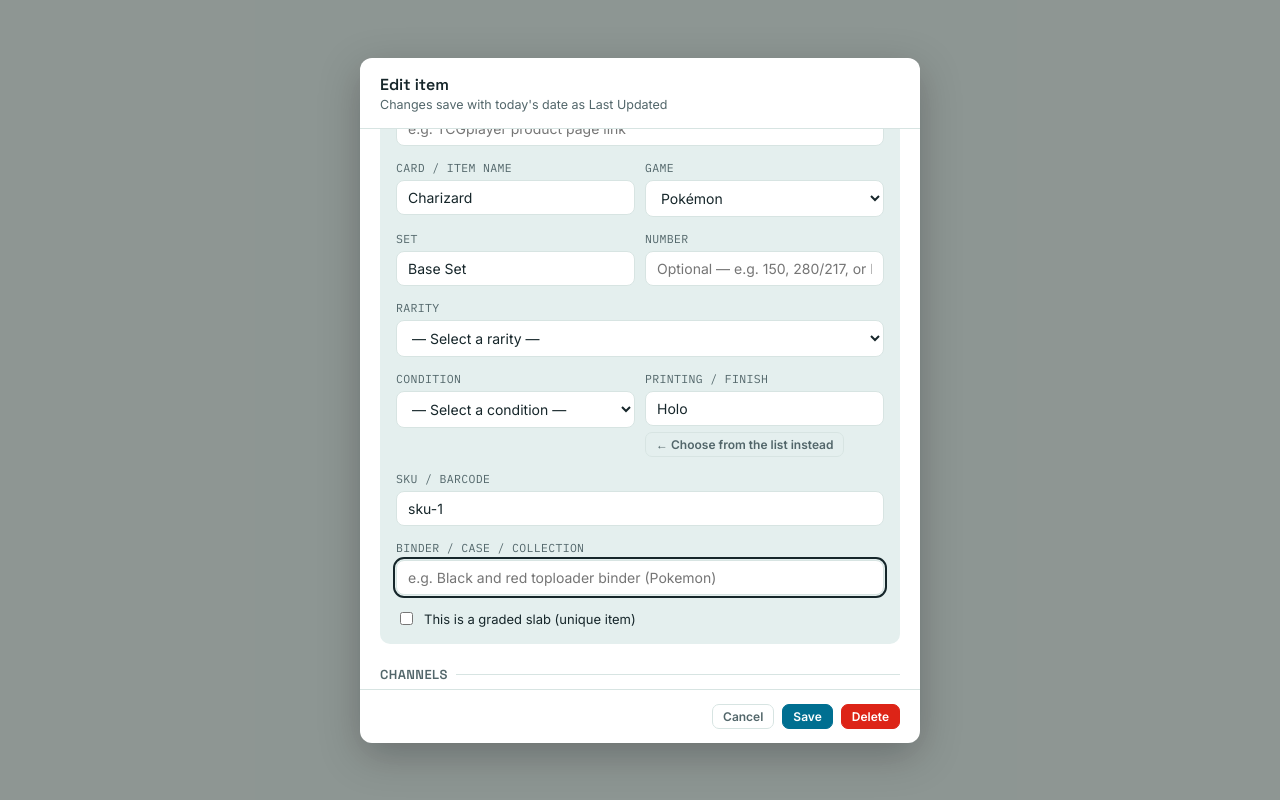
Test: EditModal — Condition picker › picking a condition from the dropdown feeds into the Market Value calculation
The image size is (1280, 800).
(page scrolled)
Select "Lightly Played" in the dropdown named "Condition" at (516, 410), box [396,391,635,428]
(page scrolled)
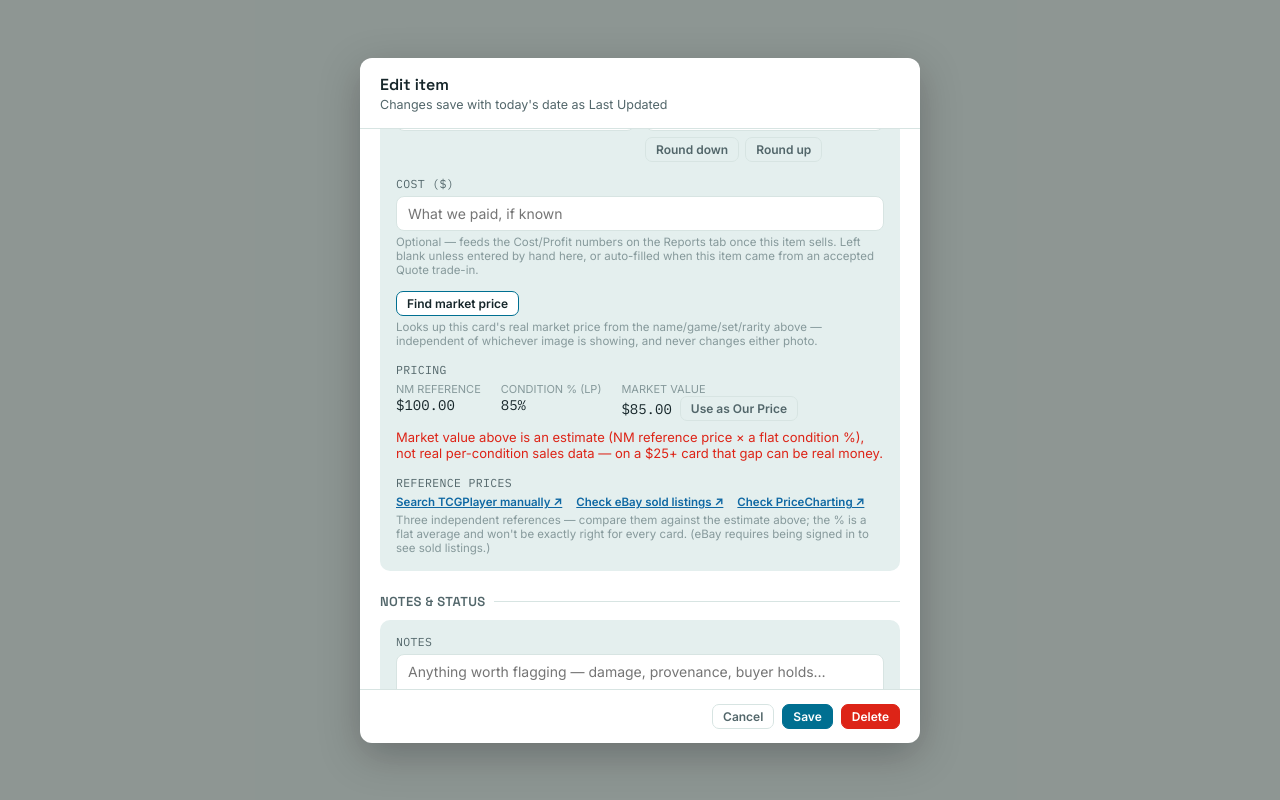
Result: the text "$85.00" is shown at [621,400,672,418]
